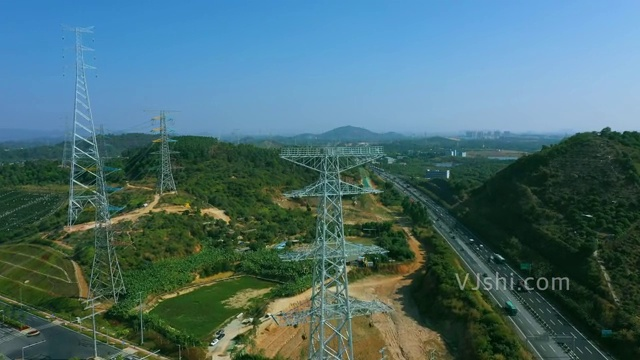tower_body: (270, 135, 401, 360), (55, 17, 115, 219), (85, 146, 126, 306), (144, 104, 195, 200)
tower_foot: (306, 322, 363, 360), (65, 187, 112, 230), (154, 177, 183, 197)
tower_head: (275, 140, 391, 200), (61, 23, 98, 37), (148, 107, 182, 120)
